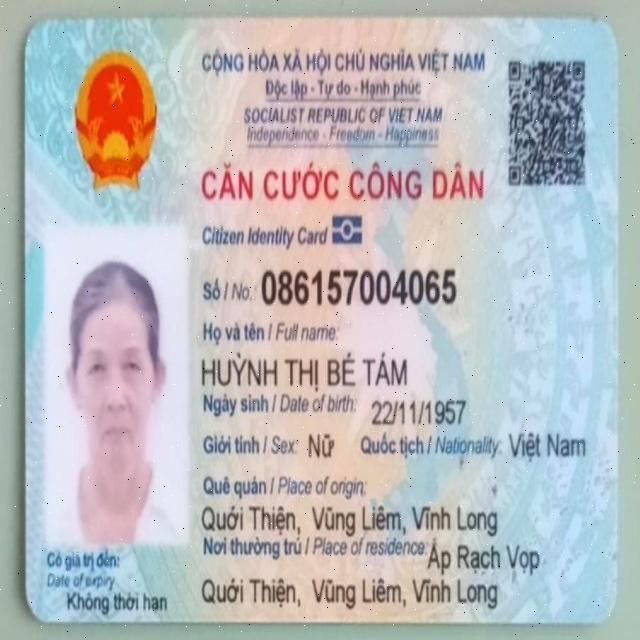current_place: (199, 571, 502, 615), (424, 538, 547, 580)
dob: (371, 394, 468, 425)
expire_date: (66, 585, 170, 617)
gender: (303, 430, 337, 462)
id: (260, 267, 458, 308)
name: (197, 351, 412, 395)
nationality: (506, 425, 588, 466)
origin_place: (201, 498, 500, 542)
qr: (504, 55, 594, 194)
